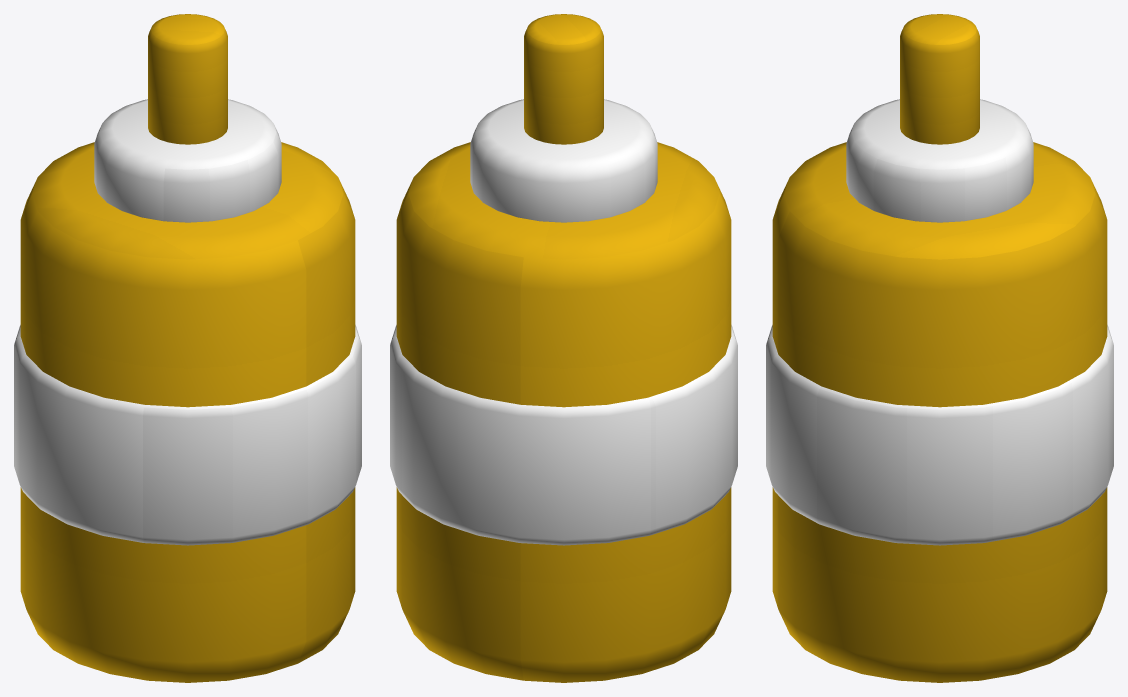
The model's file is bottle-musterd.glb.
The picture shows the model from 3 angles, left to right: view 1: azimuth 30°, elevation 25°; view 2: azimuth 150°, elevation 25°; view 3: azimuth 270°, elevation 25°; orthographic projection.
Visible parts, largest first — view 1: MustardBottle, MustardLabelBand, MustardCap, MustardNozzle; view 2: MustardBottle, MustardLabelBand, MustardCap, MustardNozzle; view 3: MustardBottle, MustardLabelBand, MustardCap, MustardNozzle.
Boxes of the visible parts, bbox=[...] form: MustardBottle: bbox=[20, 142, 355, 682]; MustardLabelBand: bbox=[14, 325, 361, 545]; MustardCap: bbox=[94, 99, 281, 222]; MustardNozzle: bbox=[148, 14, 227, 144]; MustardBottle: bbox=[396, 142, 731, 682]; MustardLabelBand: bbox=[390, 325, 737, 545]; MustardCap: bbox=[470, 99, 657, 222]; MustardNozzle: bbox=[524, 14, 603, 144]; MustardBottle: bbox=[772, 142, 1107, 682]; MustardLabelBand: bbox=[766, 325, 1113, 545]; MustardCap: bbox=[846, 99, 1033, 222]; MustardNozzle: bbox=[900, 14, 979, 144].
Size of the model in its own units: 0.156 by 0.2975 by 0.156.
Materials: 2 (2 with a texture image).
